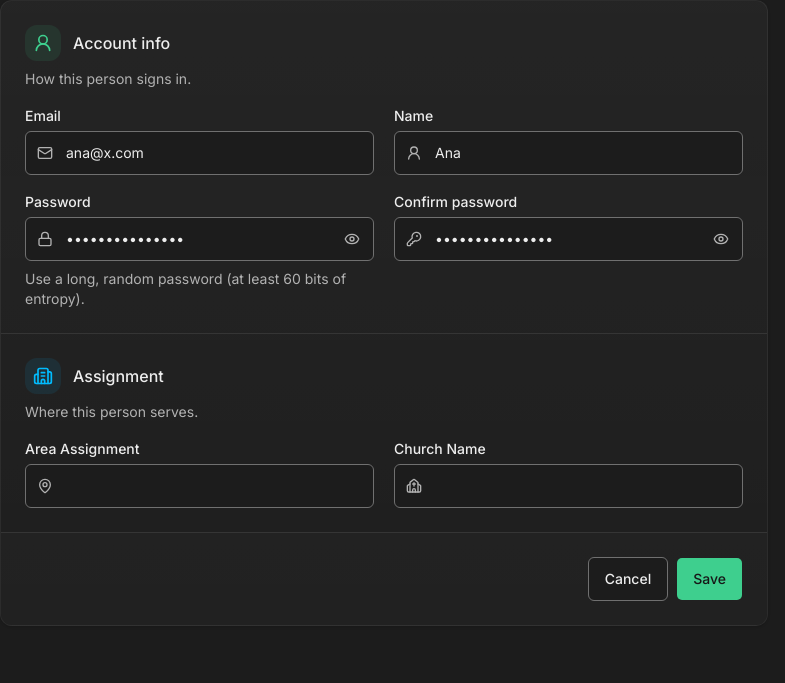
Test: UserForm password confirmation › a server 422 on confirm_password shows on that field, and typing clears it
The width and height of the screenshot is (785, 683).
Click the button "Save". click: [710, 579]
box: [676,557,743,601]
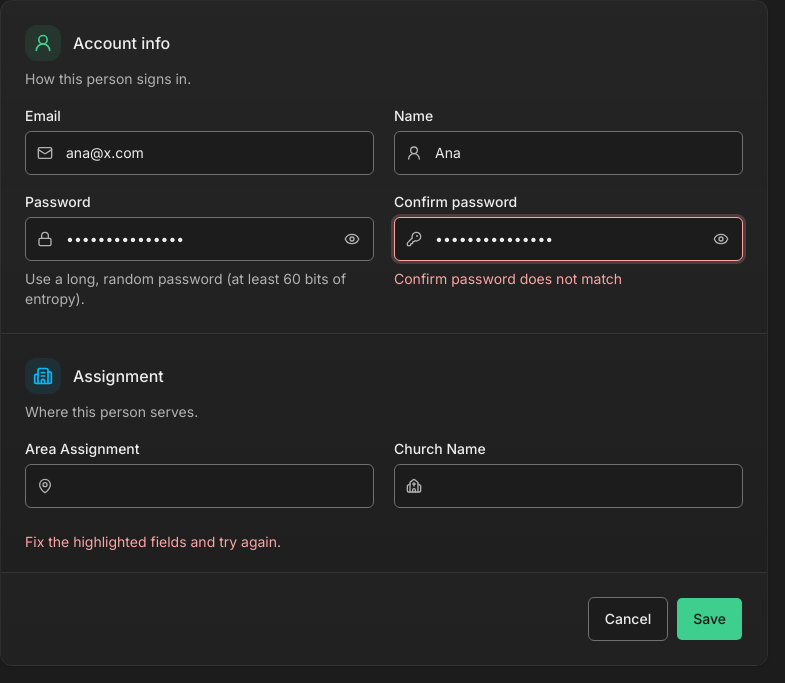
Expected: the text "Confirm password does not match" is shown, [394,270,622,287]
Type "y" into the password field labelled "Confirm password". click: [568, 239]
box: [394,217,743,261]
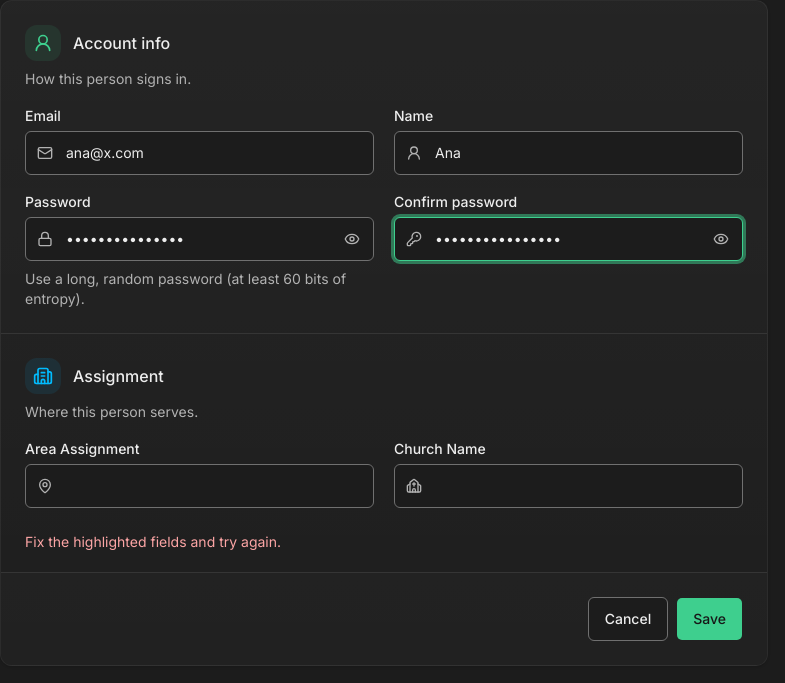
Expected: the text "Confirm password does not match" is gone
